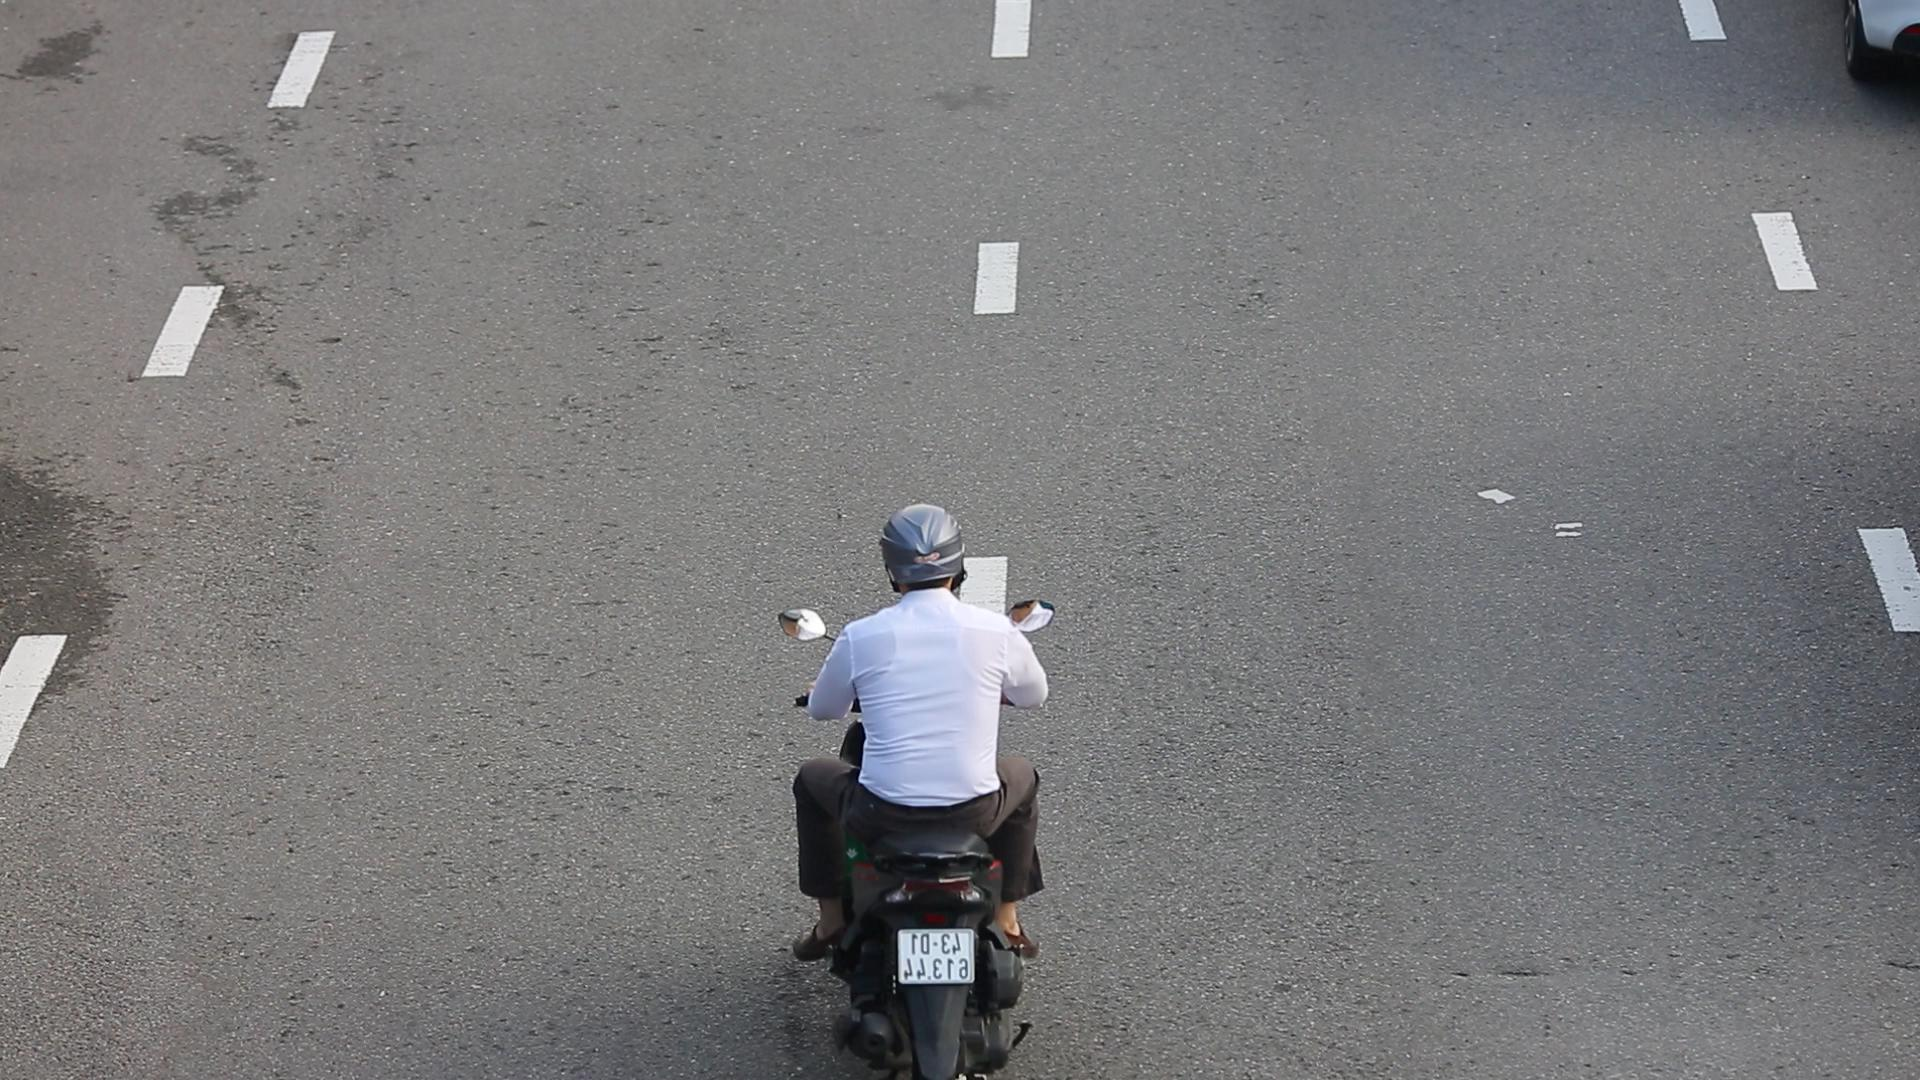motobike: (778, 502, 1054, 1080)
